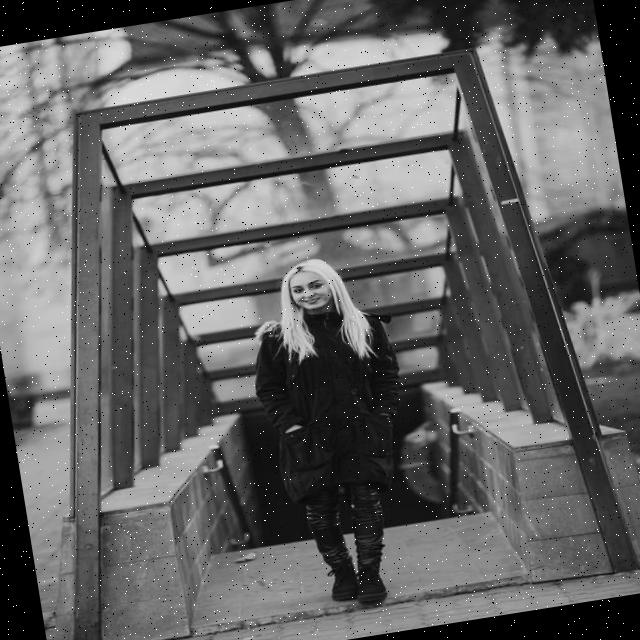Happiness: (284, 261, 336, 316)
